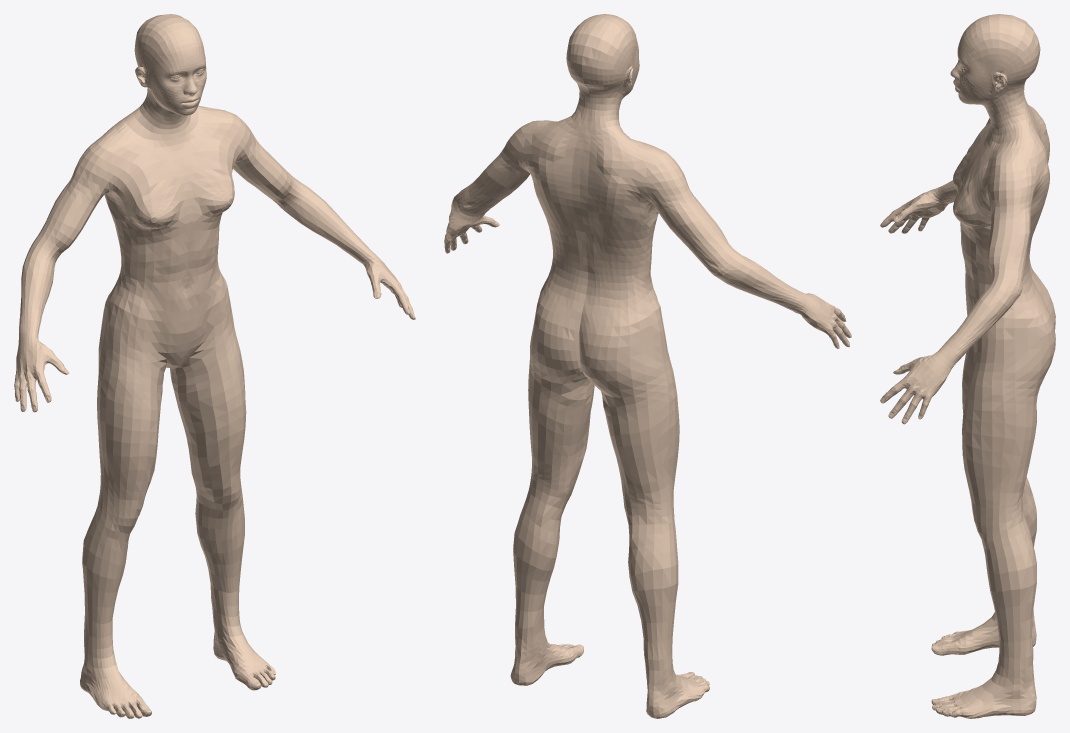
File: female-young-fit-high.glb
The picture shows the model from 3 angles, left to right: view 1: azimuth 30°, elevation 25°; view 2: azimuth 150°, elevation 25°; view 3: azimuth 270°, elevation 25°; orthographic projection.
Visible parts, largest first — view 1: world; view 2: world; view 3: world.
Boxes of the visible parts, bbox=[...] form: world: bbox=[14, 14, 415, 718]; world: bbox=[444, 14, 851, 718]; world: bbox=[880, 14, 1055, 718].
Bounding box in the file's own units: 1.09 × 1.76 × 0.4212.
